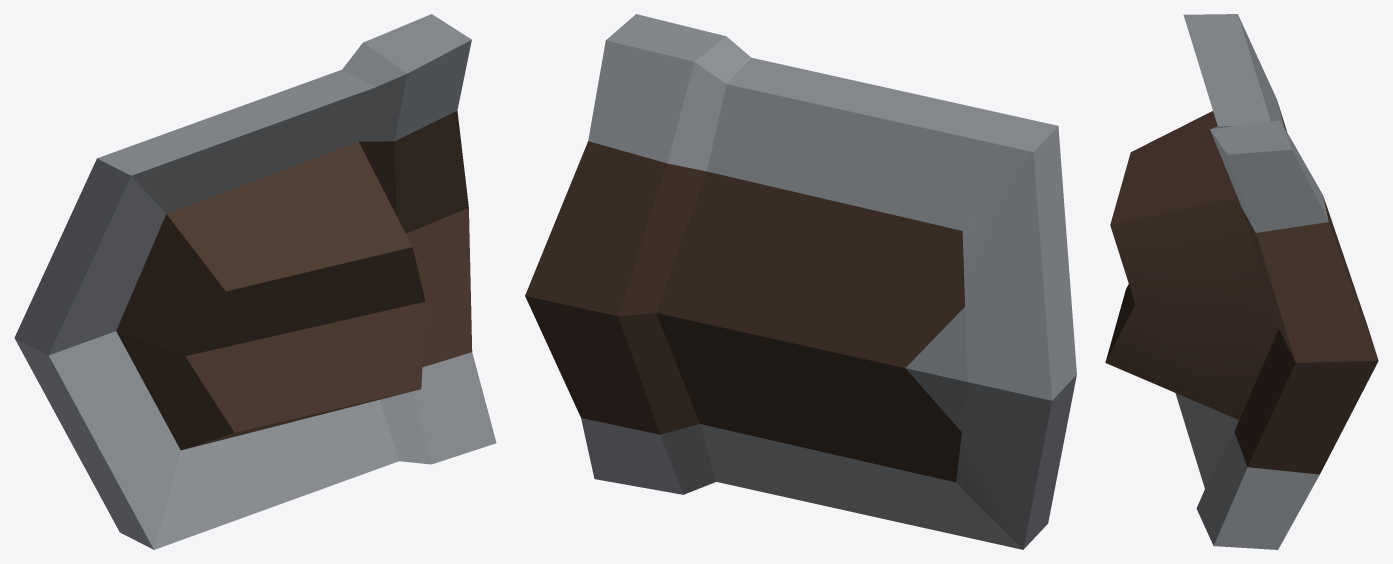
File: Chr_ElbowAttachRight_02_Static.fbx
3 renders of one model, left to right at view 1: azimuth 30°, elevation 25°; view 2: azimuth 150°, elevation 25°; view 3: azimuth 270°, elevation 25°, orthographic. The views are drawn at different scales.
Parts seen in each view (by area): view 1: Chr_ElbowAttachRight_02_Static; view 2: Chr_ElbowAttachRight_02_Static; view 3: Chr_ElbowAttachRight_02_Static.
Boxes of the visible parts, x1,y1,x2,y2 form: Chr_ElbowAttachRight_02_Static: (14,14,496,549); Chr_ElbowAttachRight_02_Static: (525,14,1076,549); Chr_ElbowAttachRight_02_Static: (1105,14,1378,549).
Bounding box in the file's own units: 0.1253 × 0.1091 × 0.0689.
